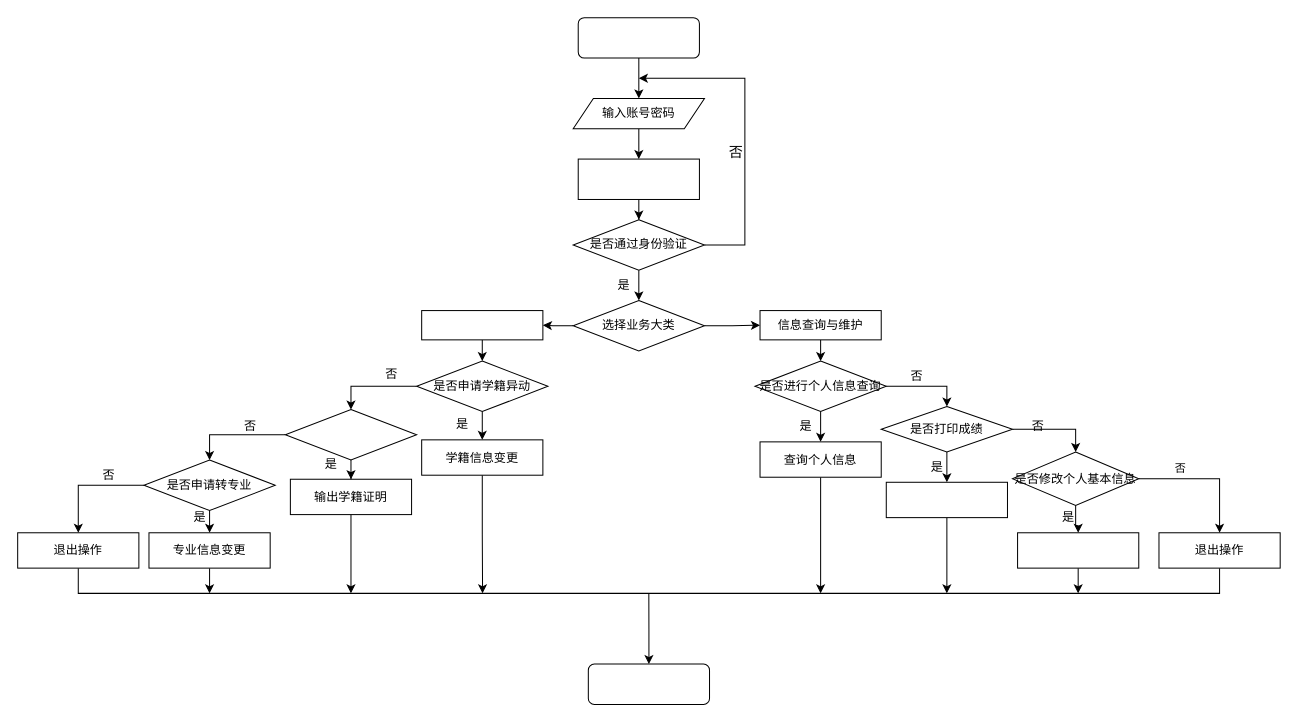
This 1298x722 diagram has some shape labels left out. Each missing label, with the centre of its shape:
"个人信息增删改查" goes at point 1078,550.
"学生登录" goes at point 638,178.
"学籍相关申请" goes at point 482,325.
"开始" goes at point 638,37.
"是否申请学籍证明" goes at point 350,434.
"结束" goes at point 648,683.
"输出成绩信息" goes at point 946,499.
